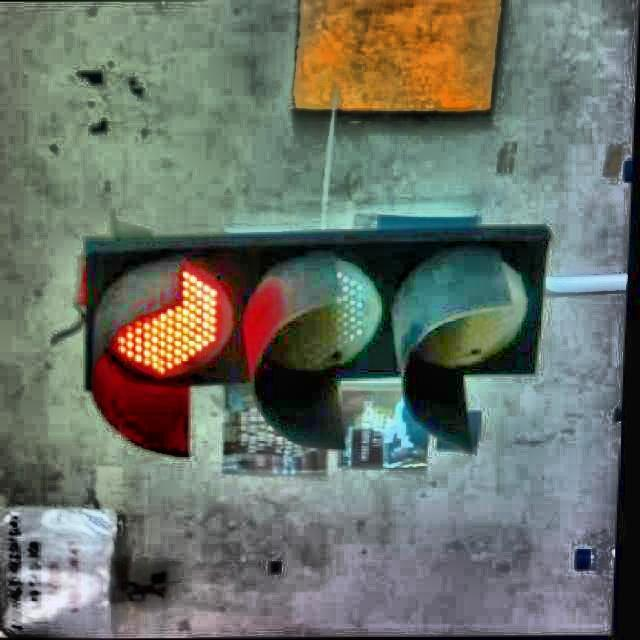red: (91, 229, 546, 390)
